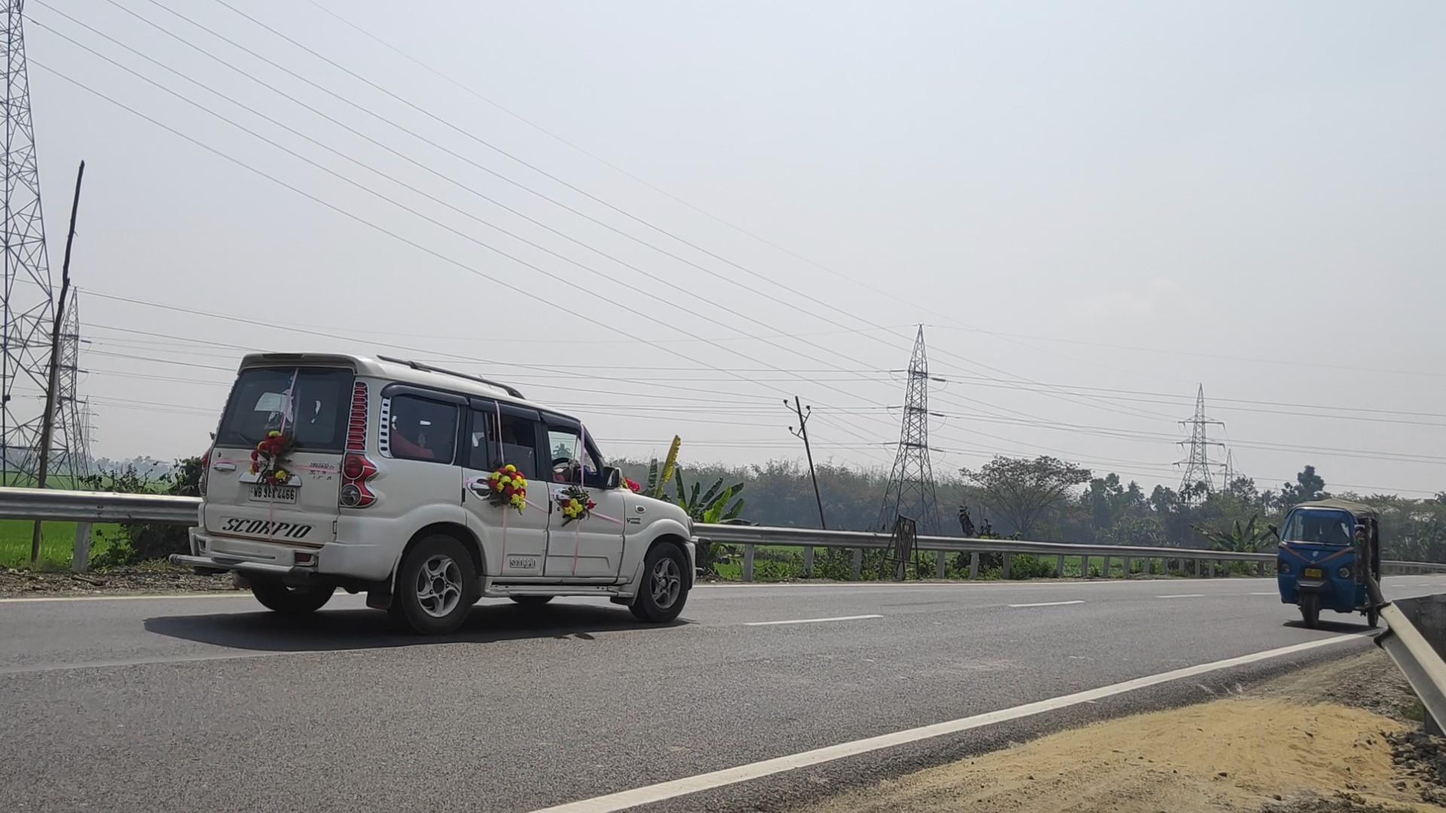Auto: (1268, 498, 1383, 629)
car: (169, 352, 712, 636)
